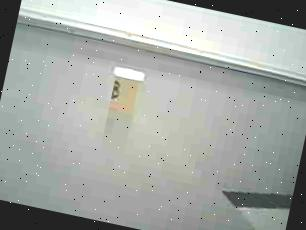Bottle B: (102, 63, 151, 120)
